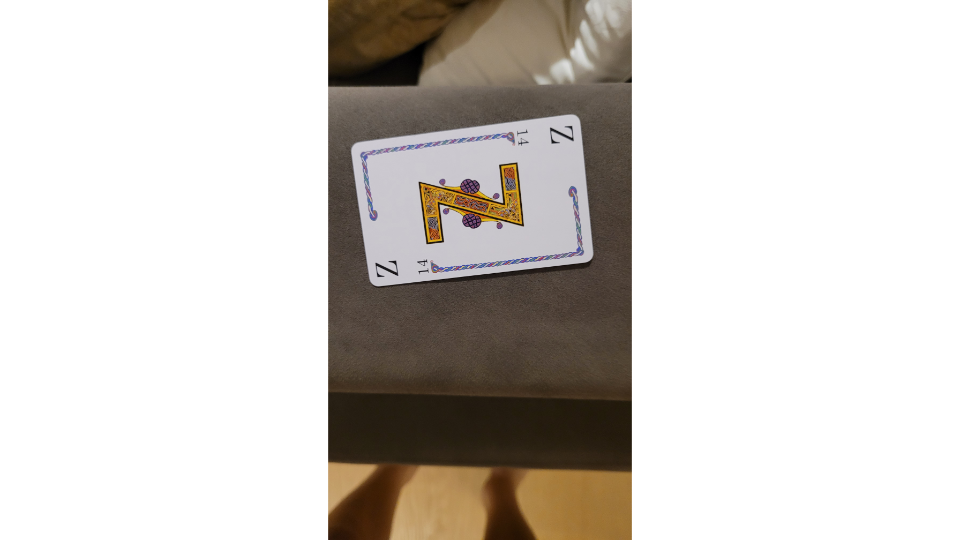Z: (348, 112, 597, 289)
